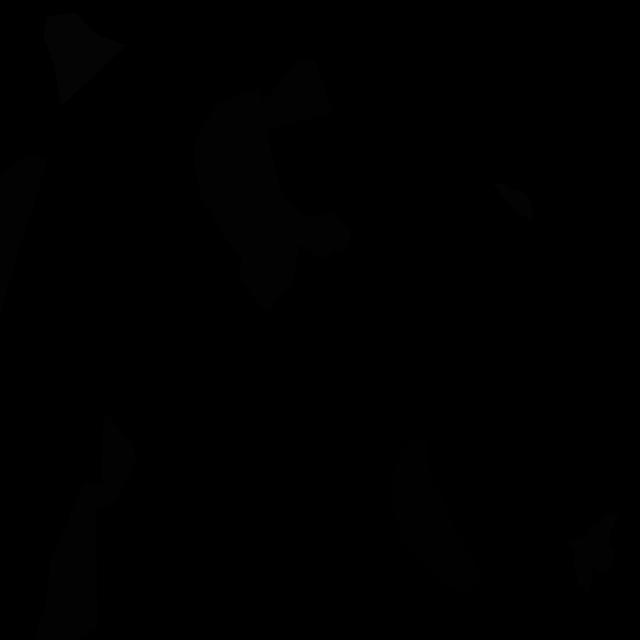cardboard: (194, 60, 352, 314), (33, 410, 136, 640), (0, 155, 47, 317), (568, 510, 620, 595)
metal: (492, 183, 532, 221)
rigid_plastic: (393, 438, 485, 591)
soft_plastic: (43, 13, 127, 106)
